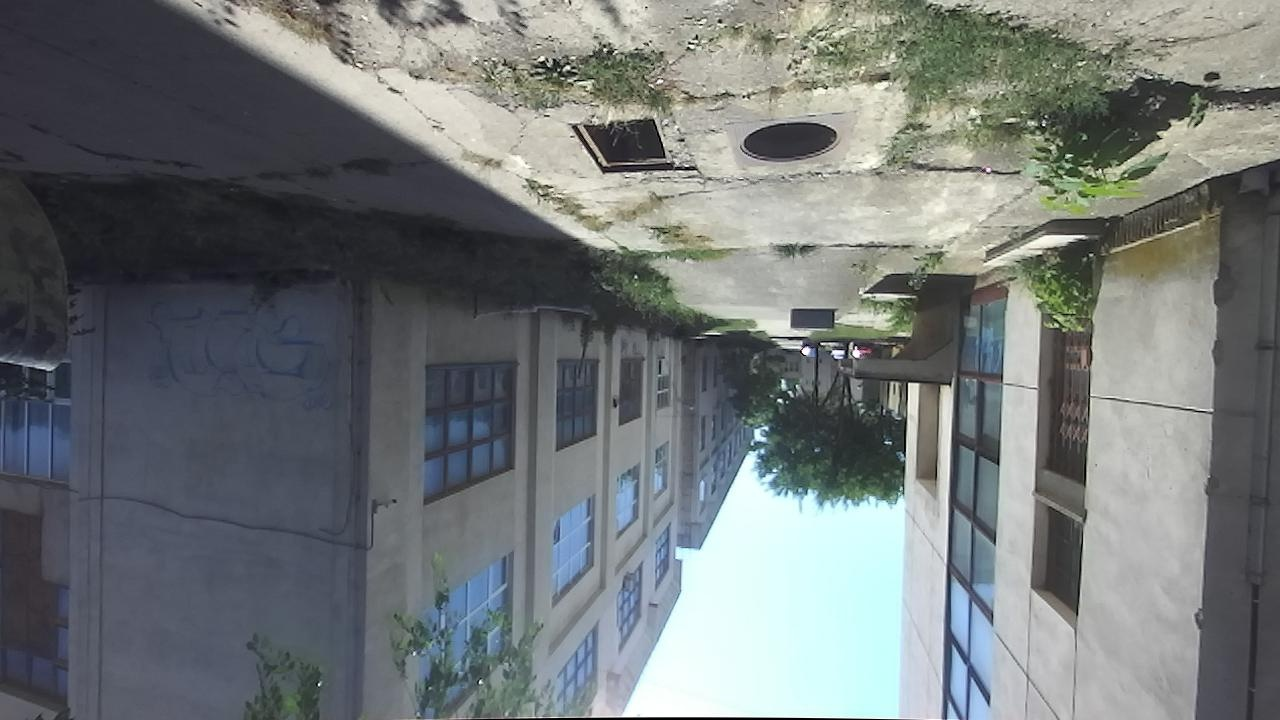drain: (563, 114, 675, 177), (729, 117, 846, 167)
